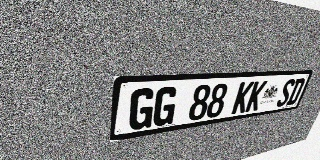8: (187, 84, 213, 121), (205, 83, 230, 119)
D: (285, 78, 306, 106)
G: (128, 88, 156, 131), (151, 86, 179, 127)
K: (231, 81, 255, 114), (245, 81, 268, 112)
S: (275, 79, 296, 107)
